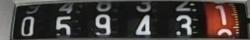digits: (174, 15, 192, 38), (94, 15, 110, 39), (137, 15, 152, 40), (56, 16, 71, 39), (214, 4, 228, 27), (20, 16, 34, 36)
